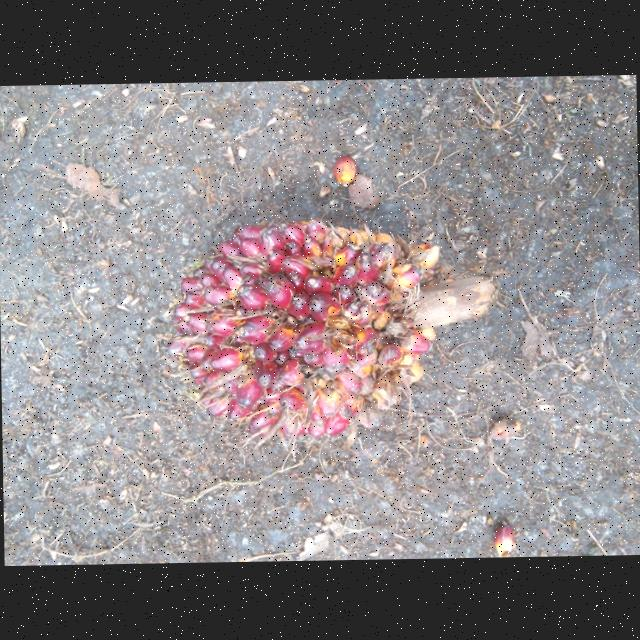Ripe: (157, 218, 439, 455)
